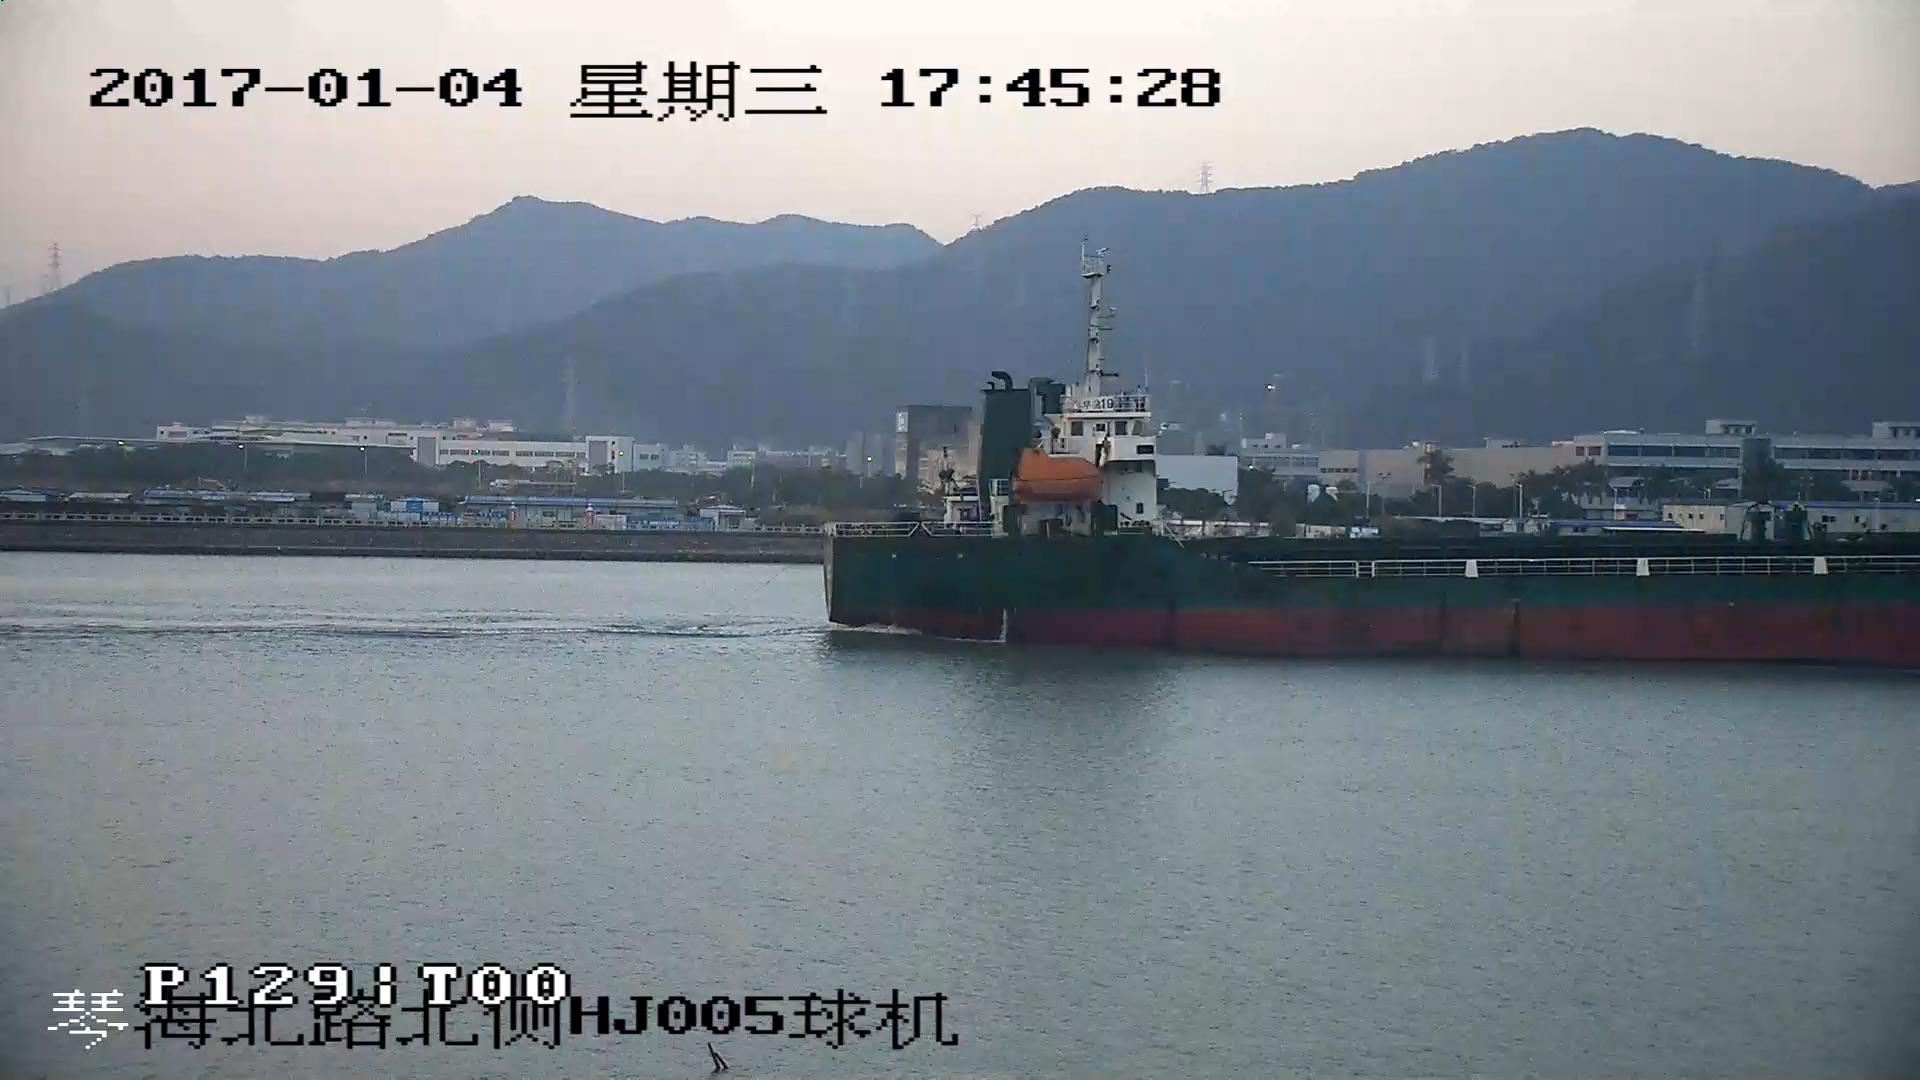general cargo ship: (826, 249, 1920, 661)
